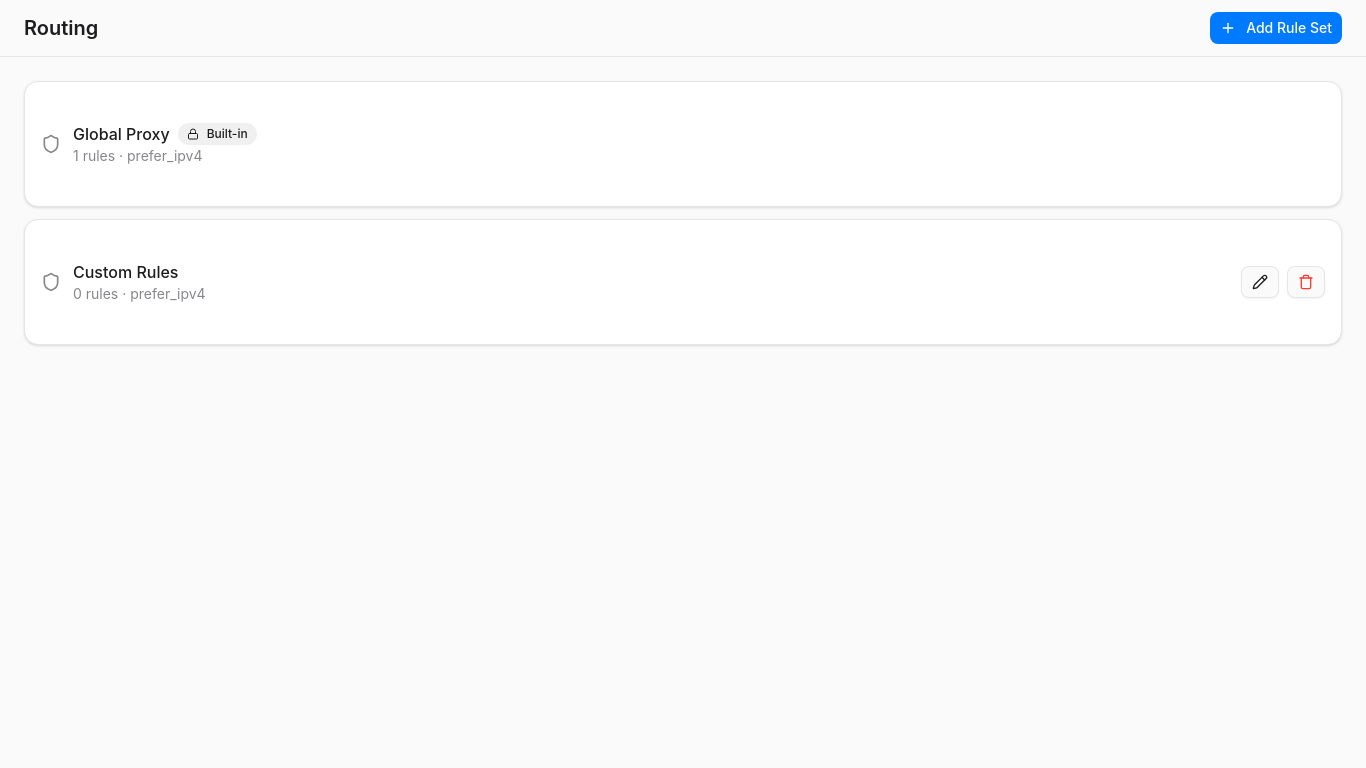
Test: RoutingPage › opens add dialog when clicking Add Rule Set
Click the button "Add Rule Set" at [1276, 28], box [1210, 12, 1342, 44]
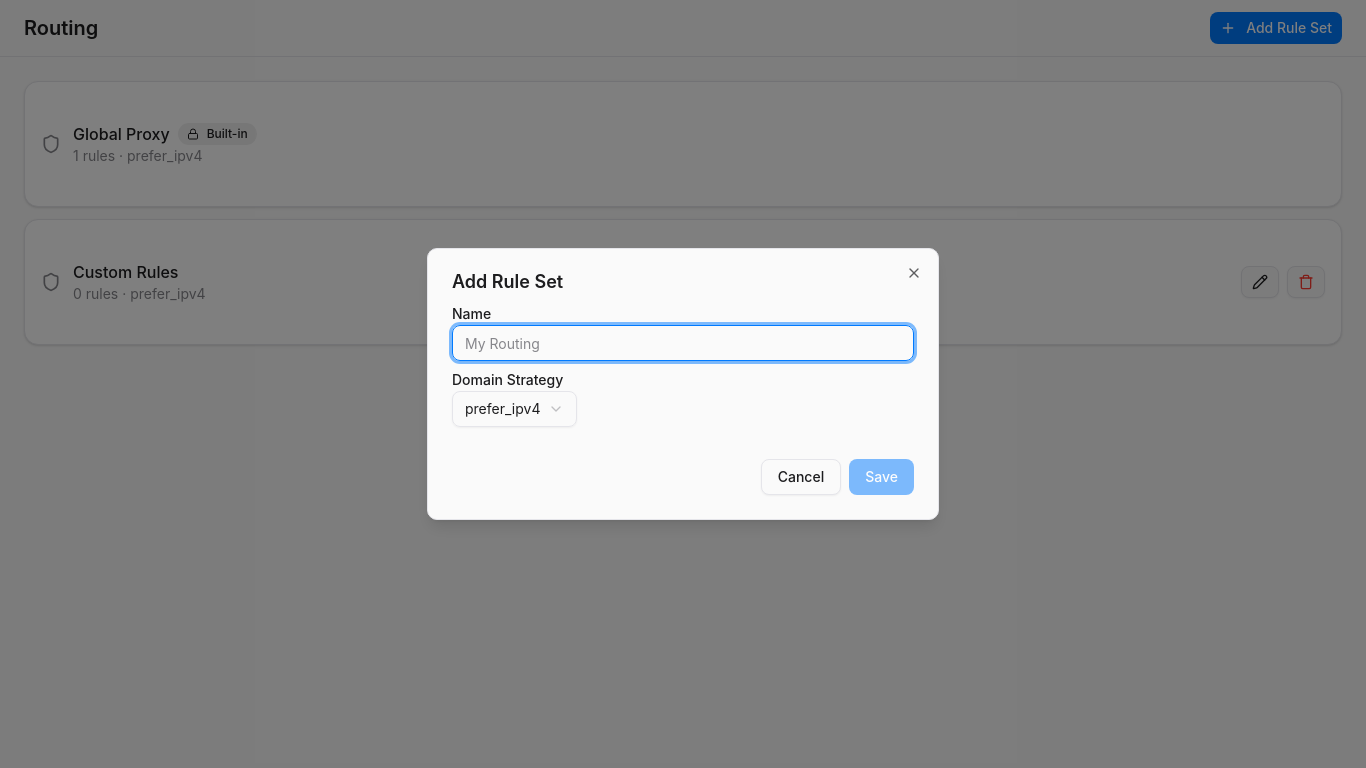
Result: the dialog is shown at [427, 248, 939, 520]
